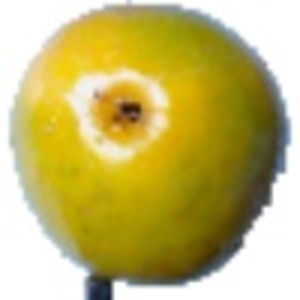maracujá: (8, 1, 299, 300)
